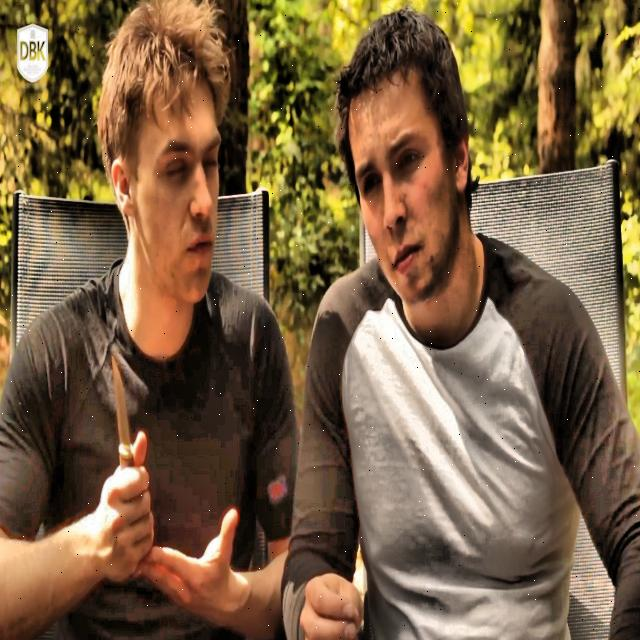knife: (111, 357, 133, 472)
